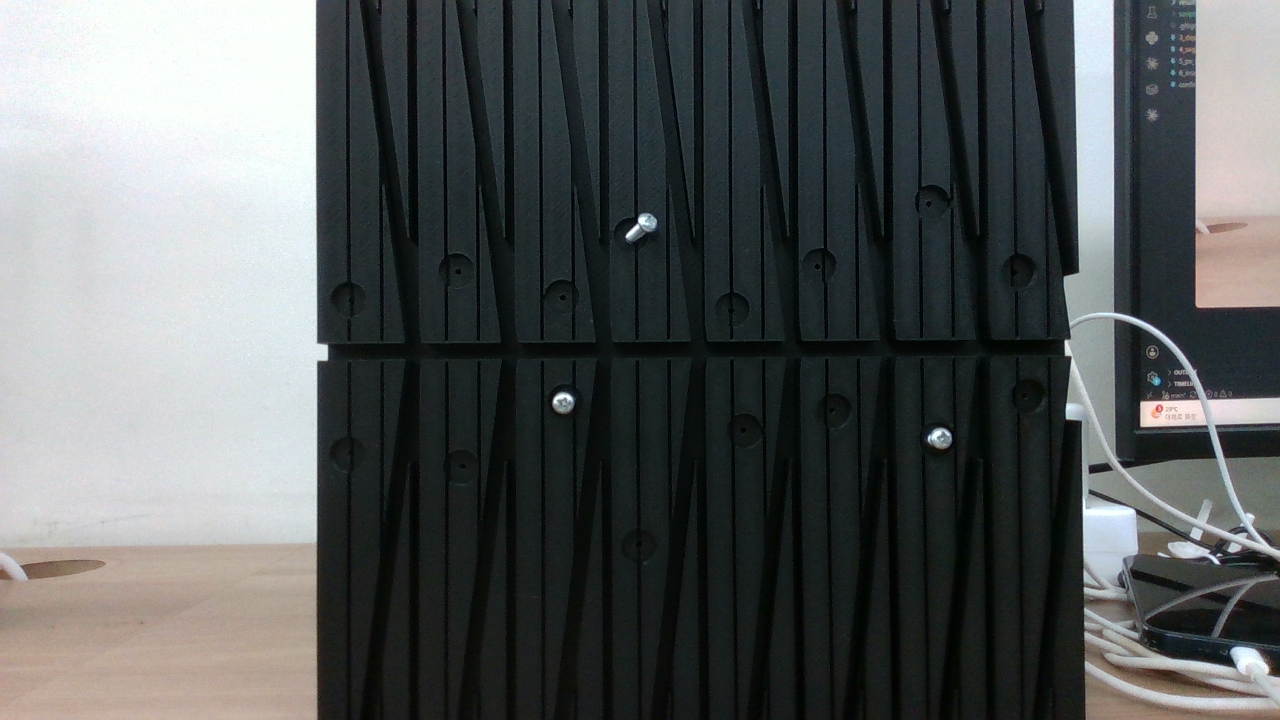screw_head: (931, 426, 955, 450), (553, 392, 575, 414), (639, 212, 659, 232)
stud_hole: (710, 287, 754, 331), (1004, 377, 1048, 421), (328, 278, 370, 320), (538, 275, 580, 317), (438, 252, 476, 290), (1001, 255, 1039, 293), (809, 392, 847, 430), (808, 246, 844, 282), (332, 432, 368, 468), (730, 415, 764, 449), (623, 527, 657, 561), (447, 448, 481, 482), (913, 188, 943, 218)
